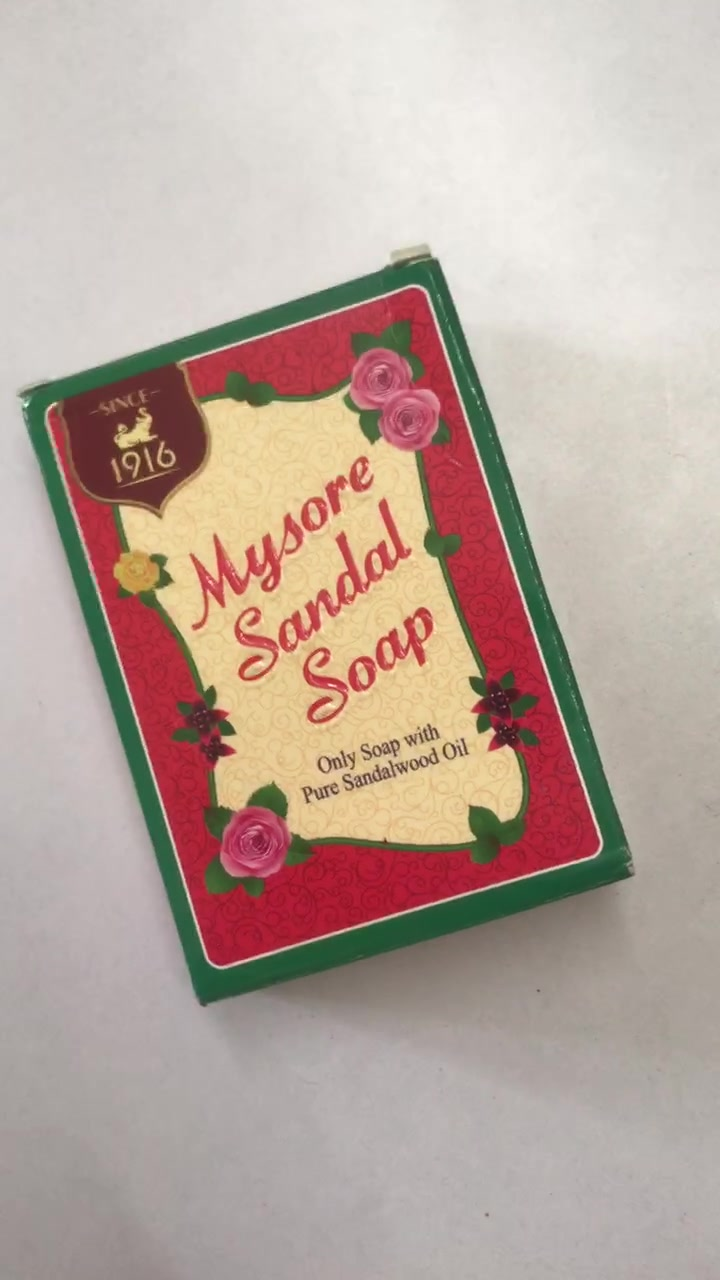mysore sandal soap: (24, 256, 633, 1006)
